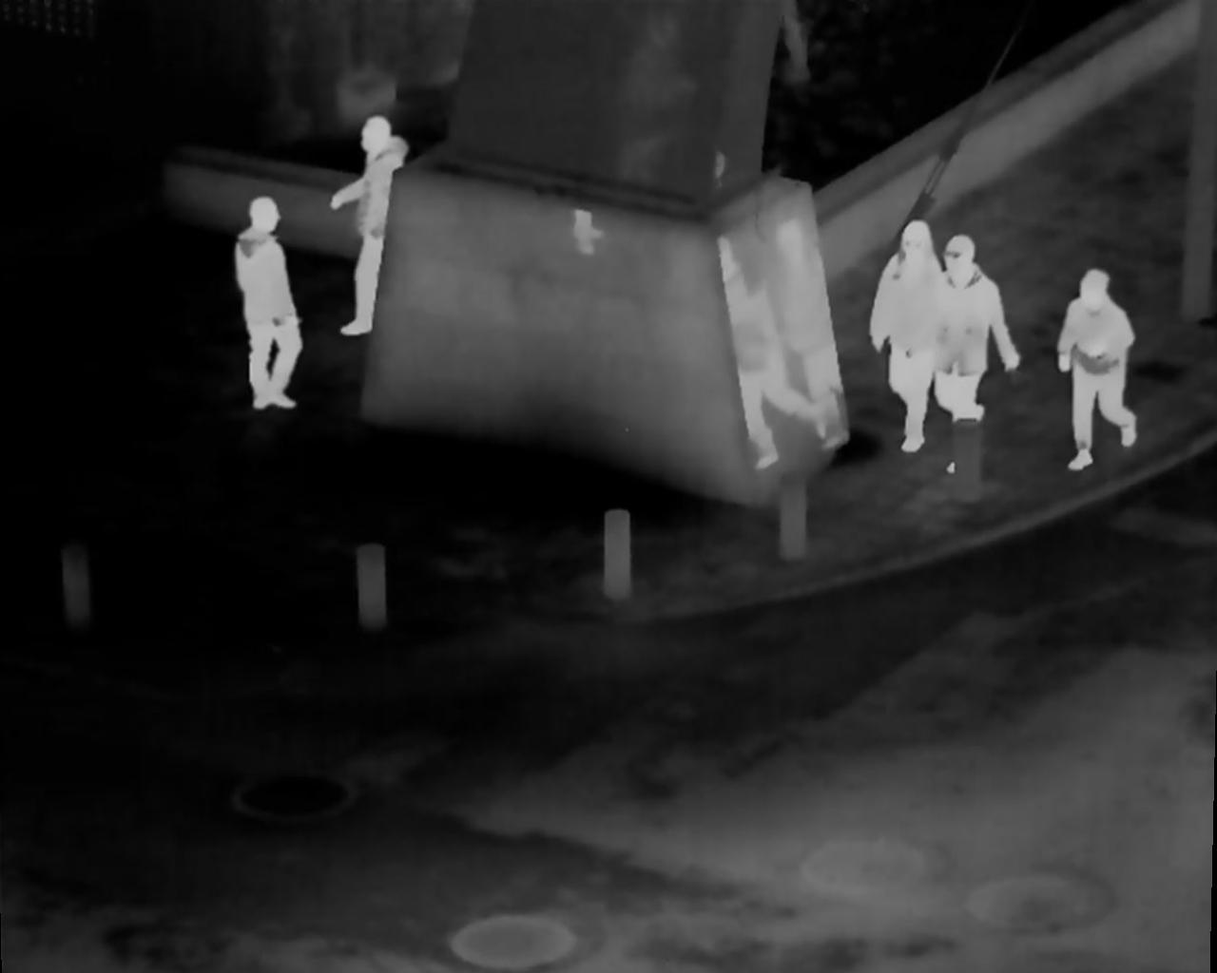person: (930, 233, 1014, 449), (1060, 267, 1144, 473), (340, 120, 414, 334), (879, 220, 942, 464), (243, 195, 302, 410)
